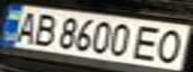0: (109, 20, 136, 58), (90, 19, 115, 55)
6: (72, 17, 96, 53)
8: (51, 15, 81, 51)
A: (9, 9, 42, 44)
B: (27, 11, 60, 47)
E: (130, 23, 166, 62)
O: (148, 27, 190, 65)
